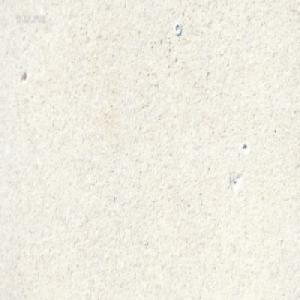Washer: (174, 21, 181, 35)
